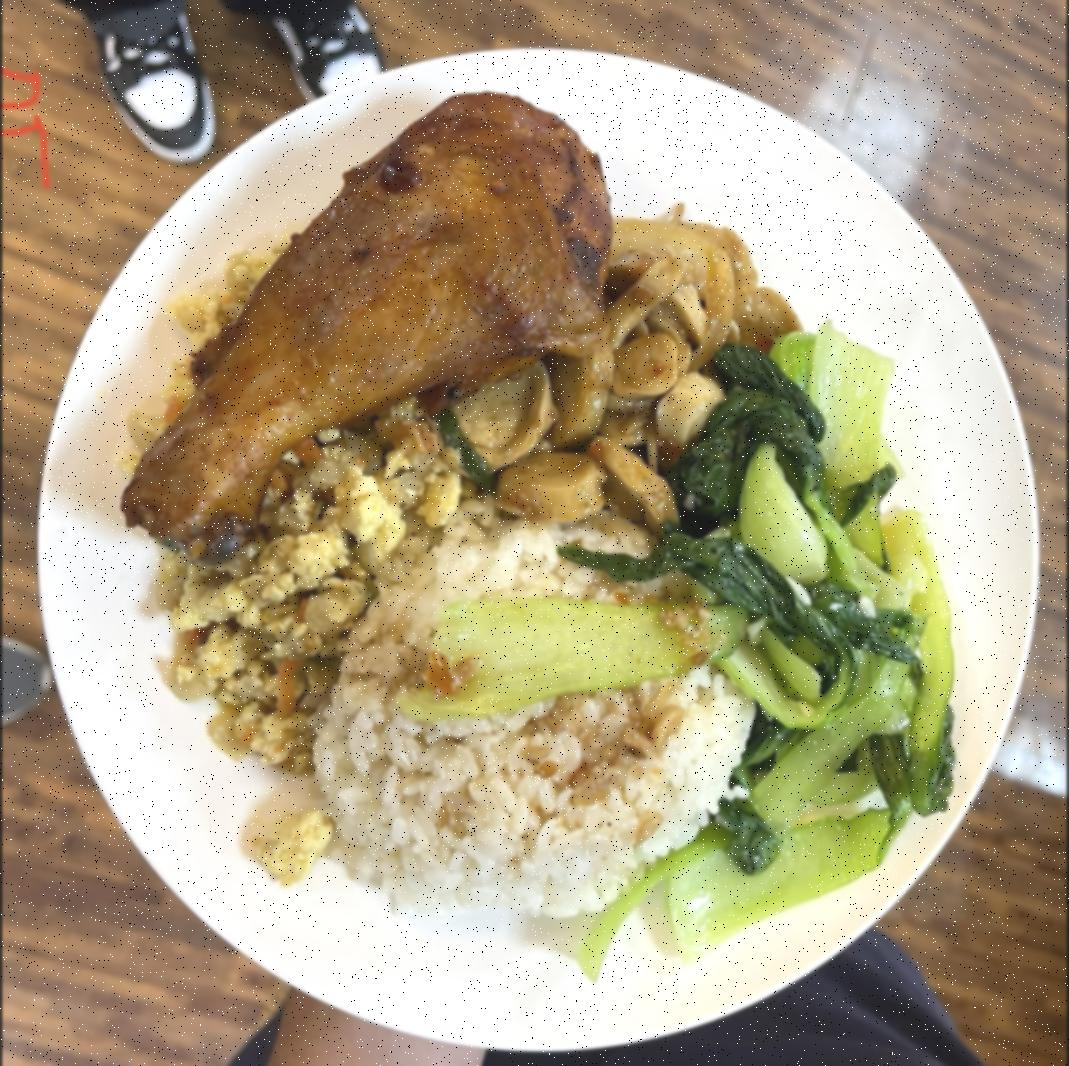plate: (33, 37, 1047, 1054)
side dish: (152, 252, 459, 884), (685, 336, 970, 948), (467, 219, 797, 521)
small grilled chicken leg: (122, 79, 624, 555)
white rice: (317, 510, 757, 922)
